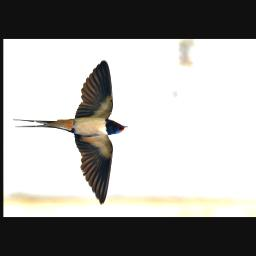Swallow: (11, 56, 129, 207)
